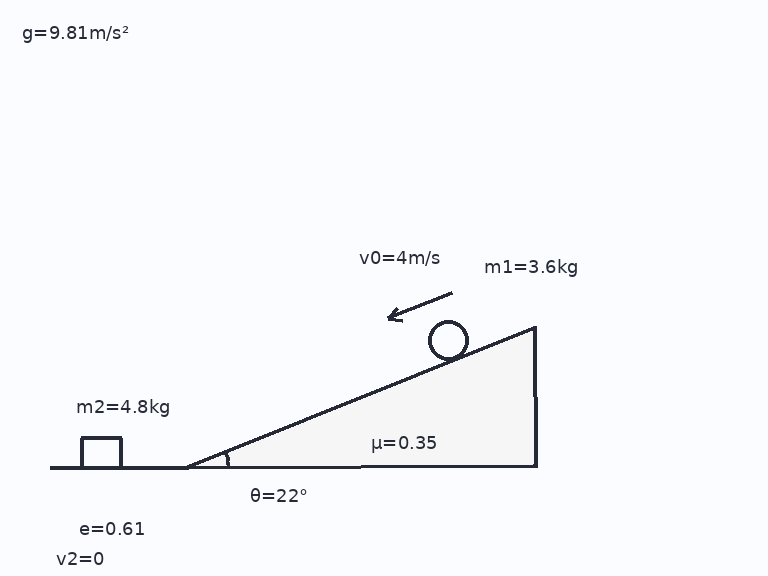ball: (426, 318, 470, 362)
block: (79, 436, 123, 469)
ramp: (186, 325, 536, 469)
